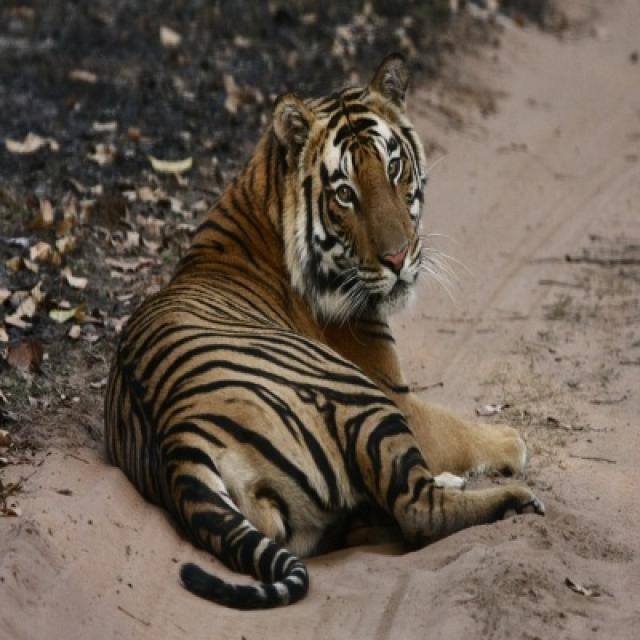Tiger: (108, 58, 538, 606)
